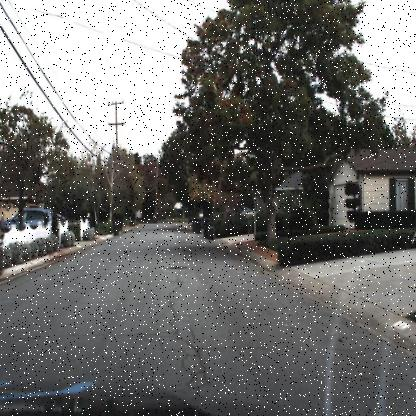car: (0, 206, 64, 242), (225, 204, 258, 229)
